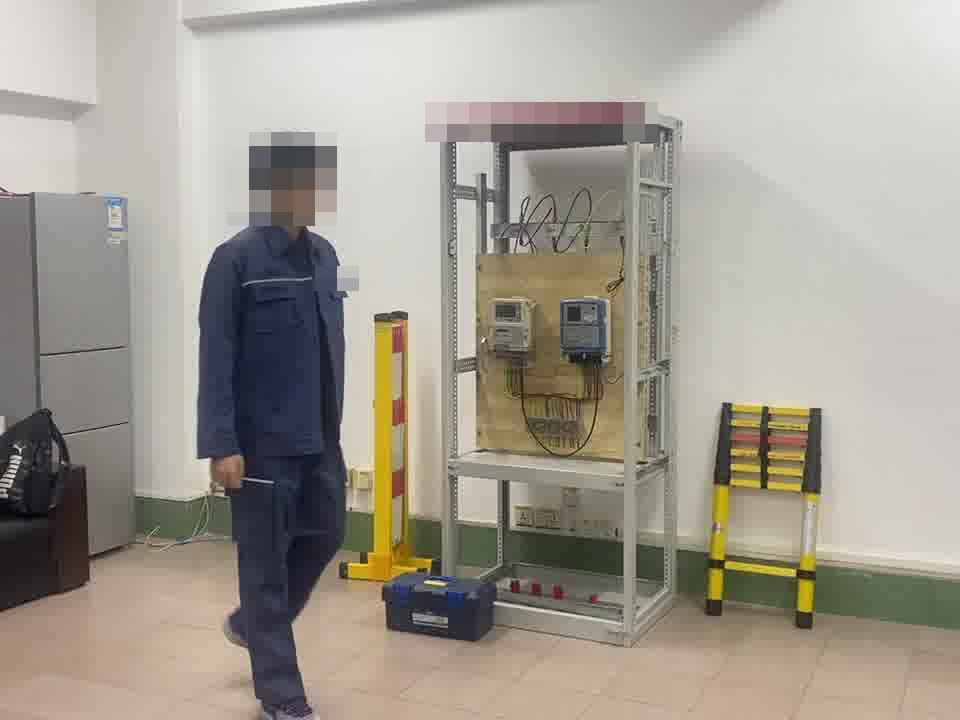downsuit: (222, 477, 348, 720)
hand: (209, 457, 247, 491)
noear: (257, 166, 295, 210)
person: (191, 129, 361, 720)
unhalt: (247, 129, 339, 222)
upsuit: (197, 210, 352, 462)
wrongsuit: (297, 251, 345, 457)
